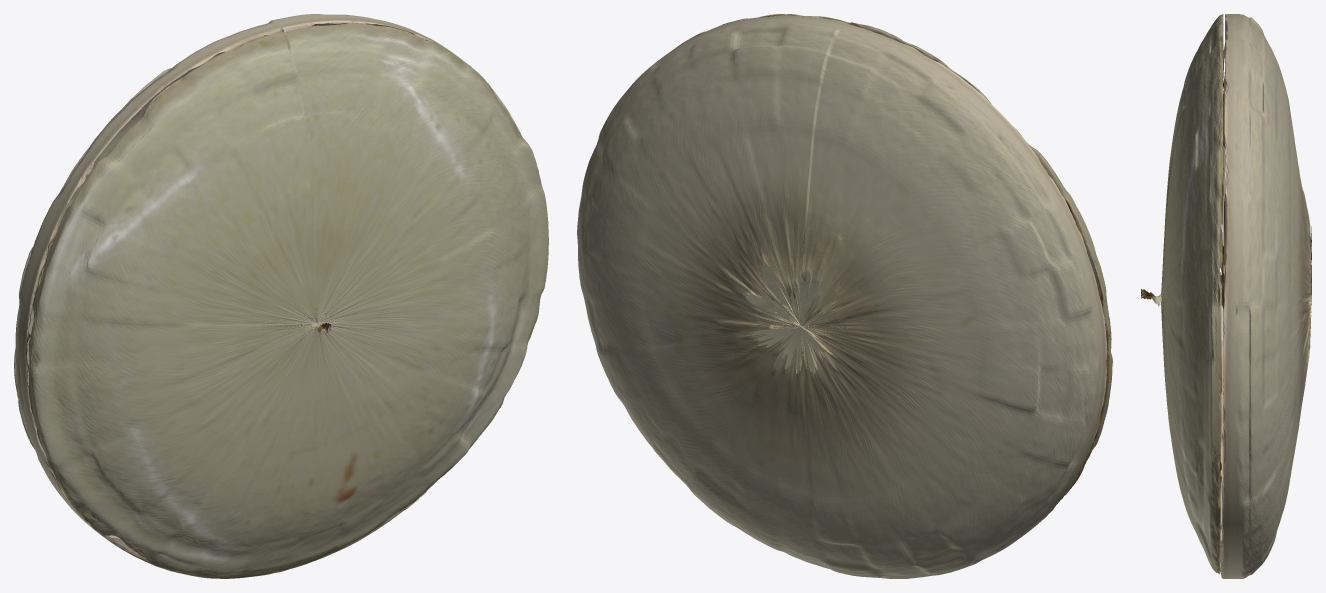
3 renders of one model, left to right at view 1: azimuth 30°, elevation 25°; view 2: azimuth 150°, elevation 25°; view 3: azimuth 270°, elevation 25°, orthographic. The views are drawn at different scales.
Visible parts, largest first — view 1: geometry_0; view 2: geometry_0; view 3: geometry_0.
Boxes of the visible parts, x1,y1,x2,y2 form: geometry_0: (14, 14, 548, 578); geometry_0: (577, 14, 1112, 578); geometry_0: (1141, 14, 1311, 578).
Size of the model in its own units: 2 by 2 by 0.6047.
1 material, 1 textured.
